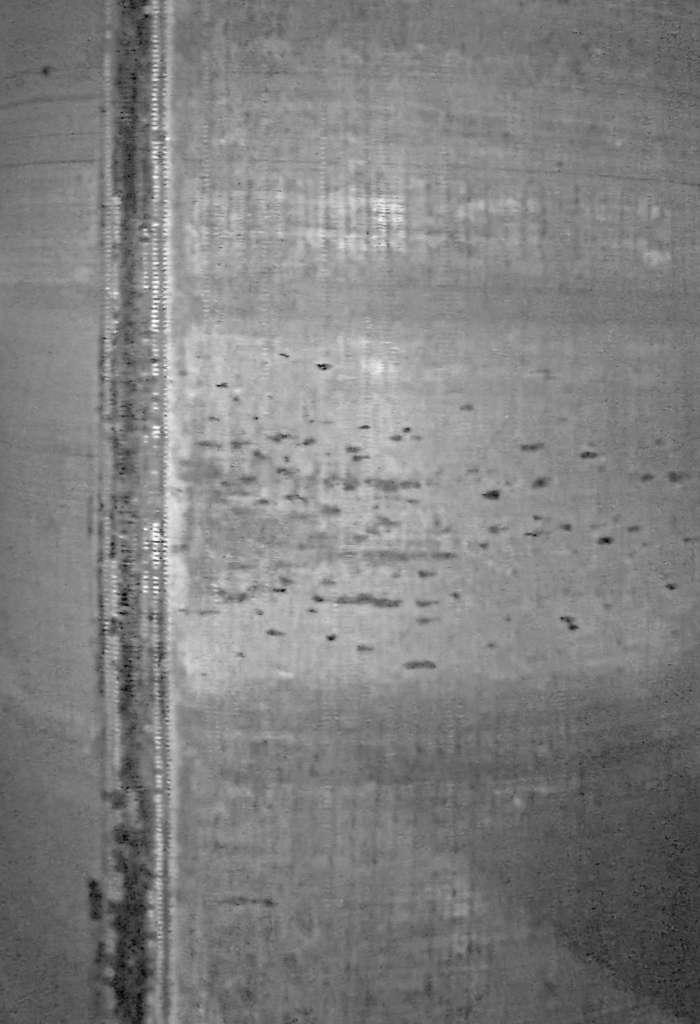splice: (88, 2, 193, 1024)
